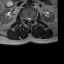CCS_stenosis: (28, 15, 30, 23)
LFS_normal: (32, 16, 34, 22)
LLS_normal: (30, 15, 32, 22)
RFS_normal: (24, 15, 26, 21)
RLS_normal: (26, 15, 28, 22)
